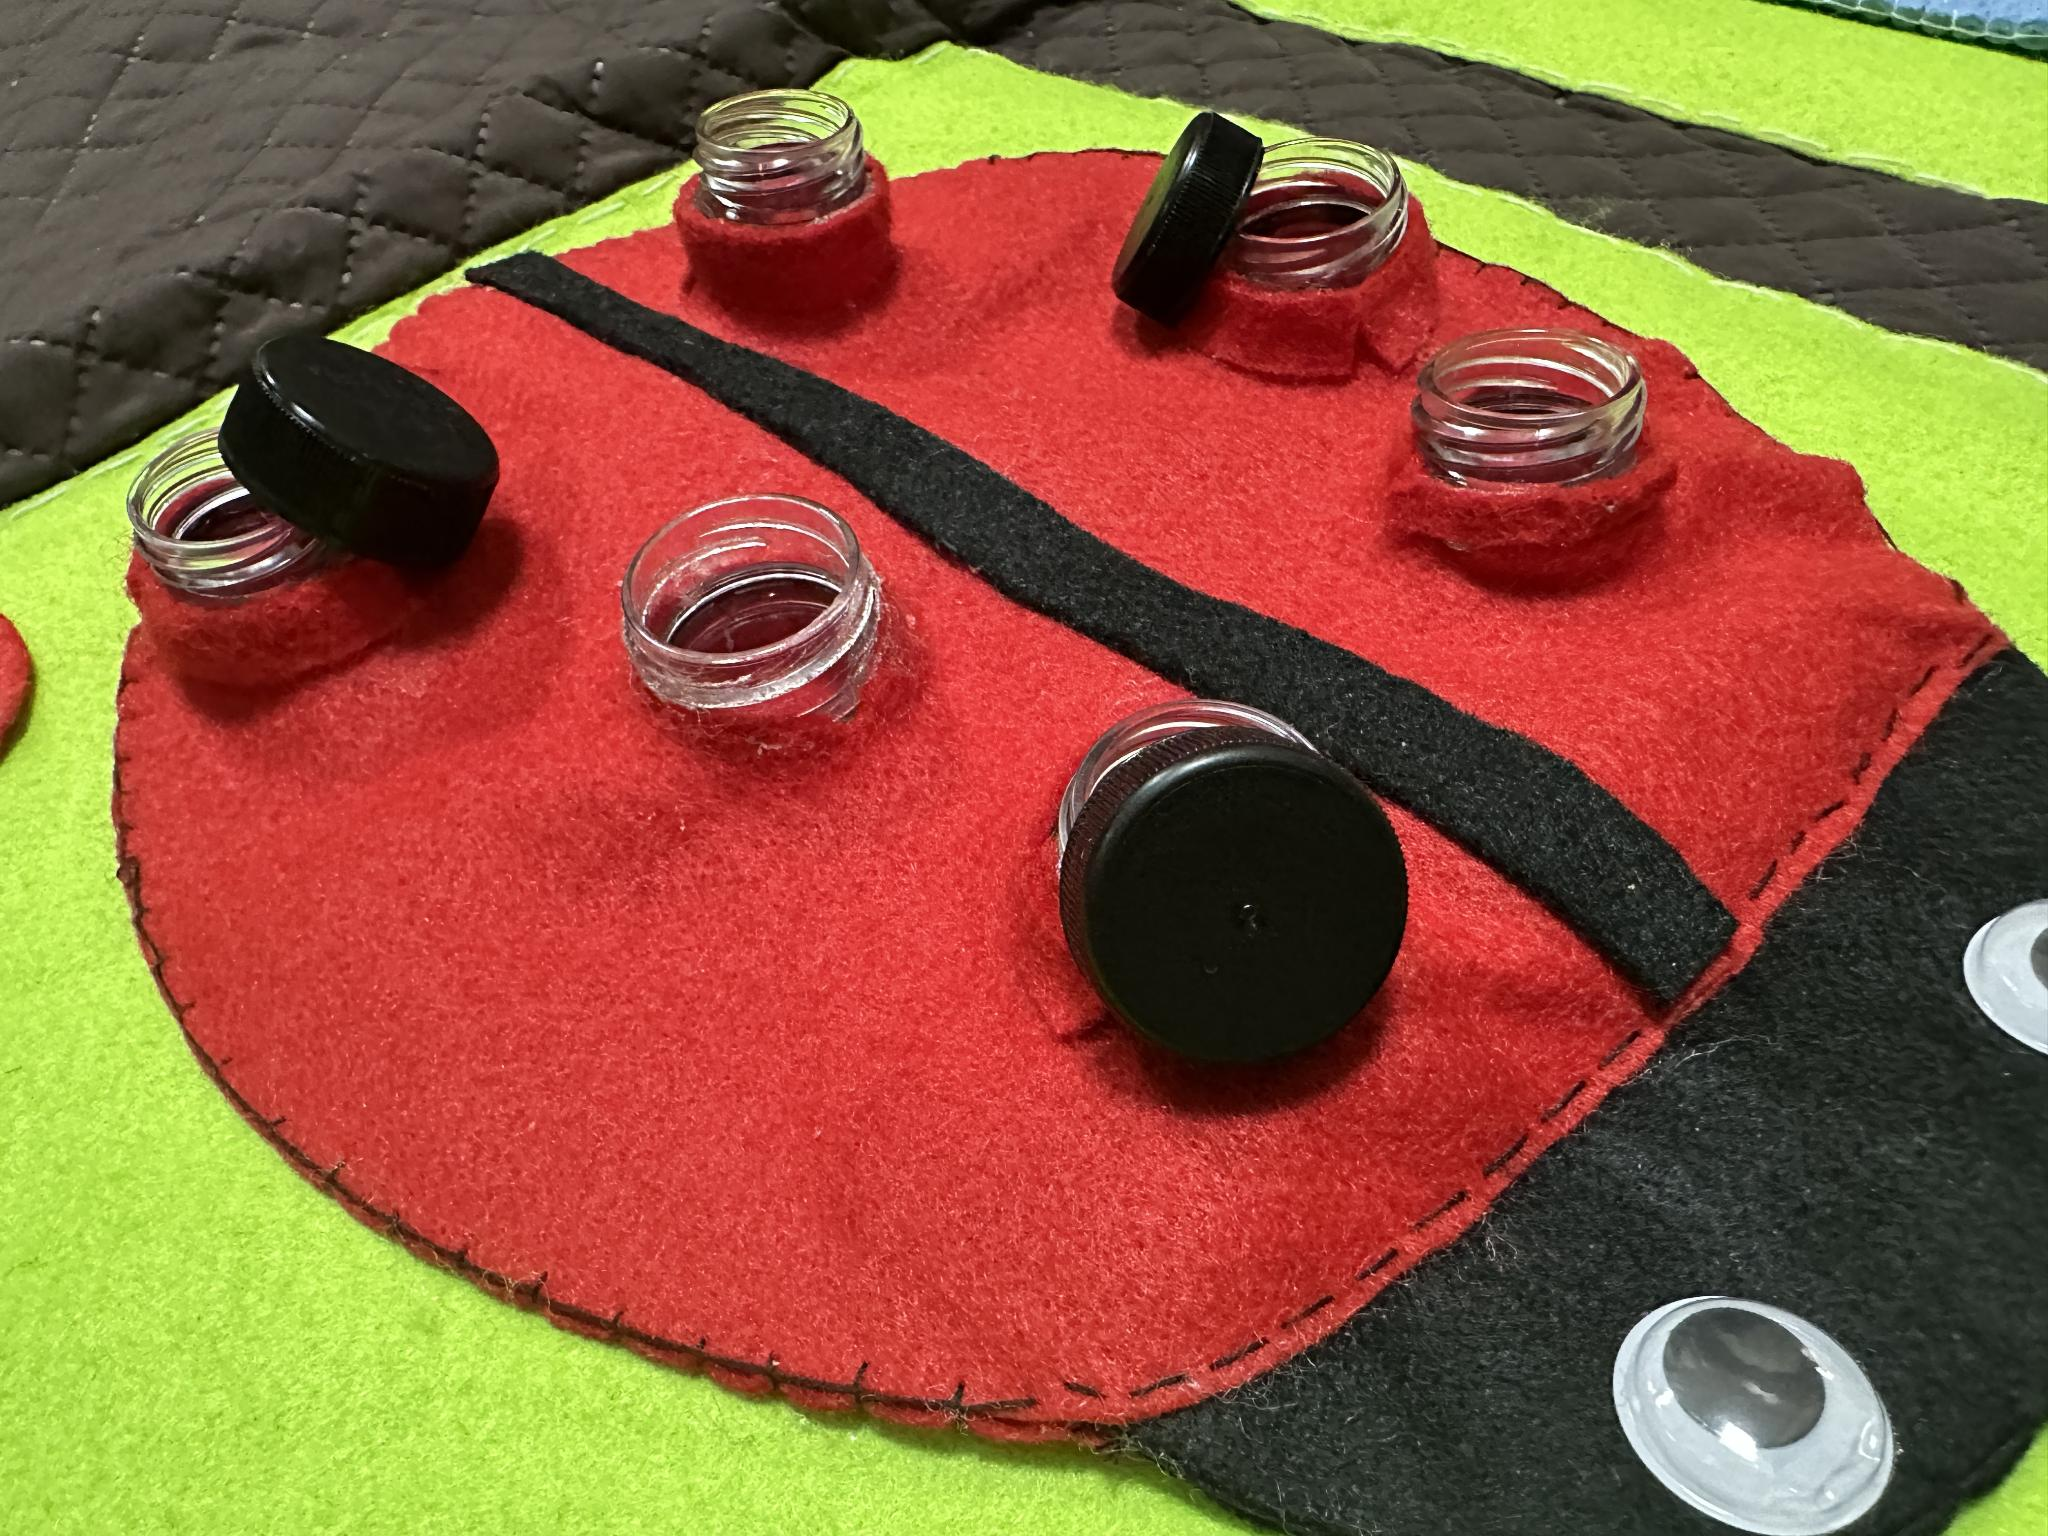cap_ng: (113, 329, 526, 700), (1059, 671, 1411, 1083), (1126, 87, 1429, 389)
